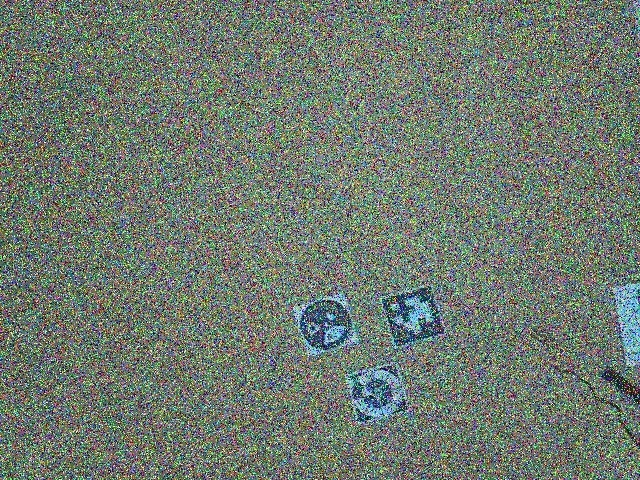landing-zone: (345, 361, 408, 426)
